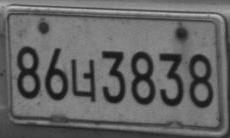3: (157, 52, 184, 107), (101, 49, 125, 104)
6: (44, 47, 69, 101)
8: (129, 50, 156, 105), (188, 52, 214, 109), (16, 45, 41, 99)
너: (70, 58, 95, 102)
